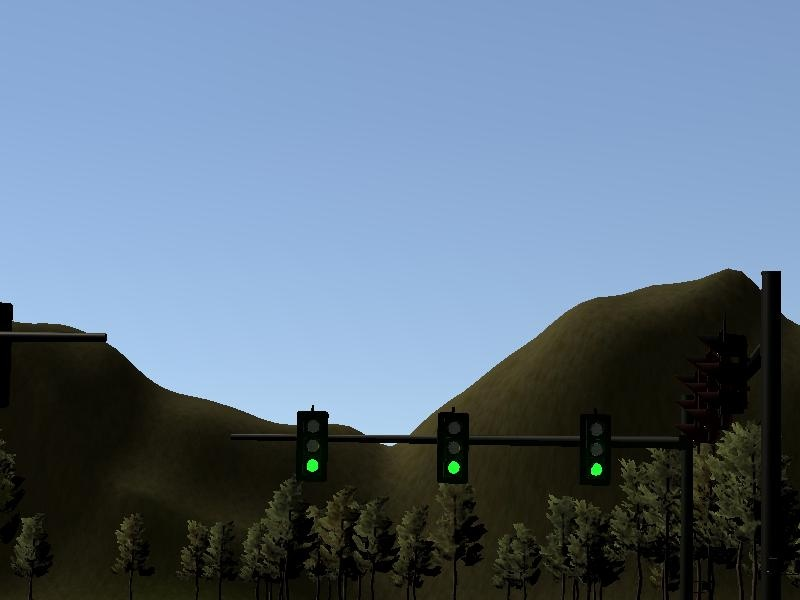GREEN: (437, 412, 470, 484), (579, 415, 612, 485), (296, 412, 329, 477)
